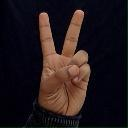hand: (37, 9, 91, 116)
